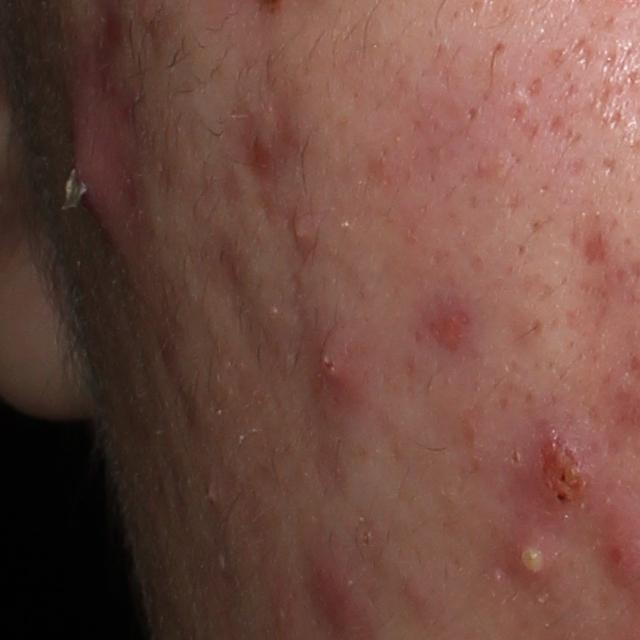nodule: (56, 66, 135, 265)
papule: (523, 421, 599, 516), (309, 332, 357, 401), (399, 577, 436, 613), (286, 209, 320, 247)
pustule: (509, 536, 557, 590)
